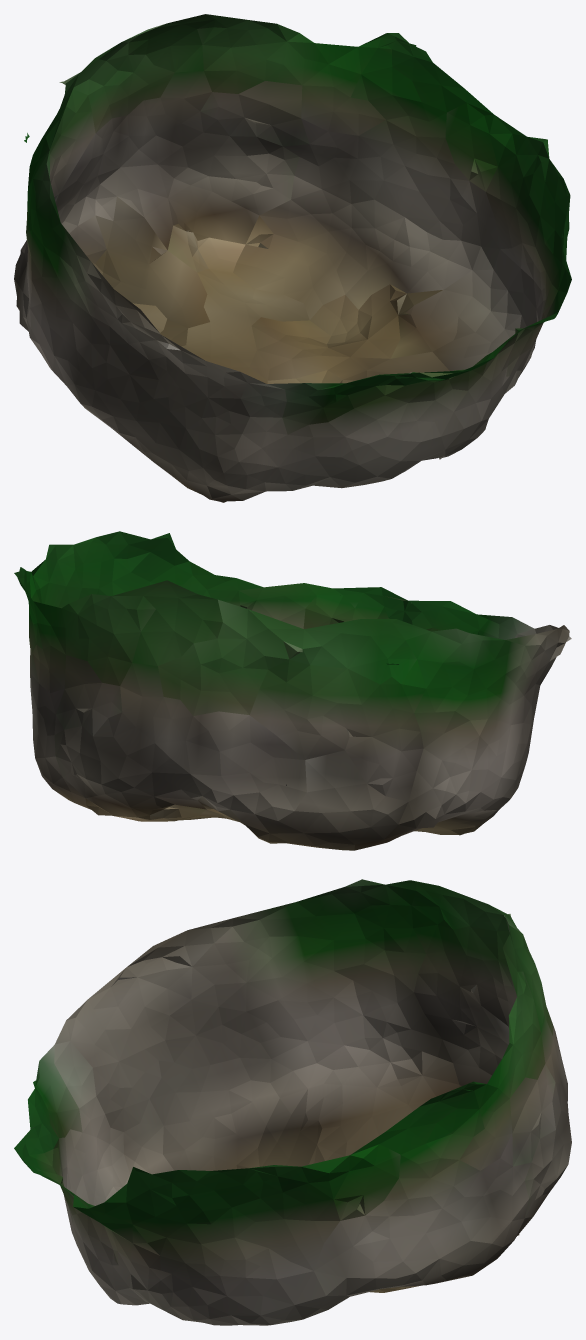
Rendered from texturedMesh.obj.
3 views of the same model, one above another, from view 1: azimuth 30°, elevation 25°; view 2: azimuth 150°, elevation 25°; view 3: azimuth 270°, elevation 25° (orthographic). The views are drawn at different scales.
Parts seen in each view (by area): view 1: TexturedMesh; view 2: TexturedMesh; view 3: TexturedMesh.
Part boxes in pixels (x1,y1,x2,y2): TexturedMesh: (14, 14, 571, 502); TexturedMesh: (14, 531, 571, 850); TexturedMesh: (14, 879, 571, 1325).
Size of the model in its own units: 1.7 by 1.14 by 1.67.
Materials: 1 (1 with a texture image).
